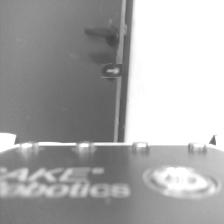Door Handle: (83, 24, 121, 52)
Lock: (102, 62, 120, 80)
